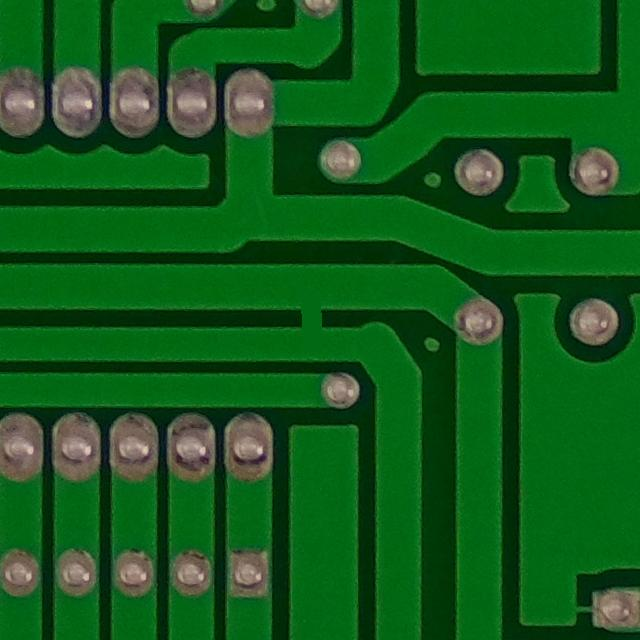short: (277, 275, 363, 366)
